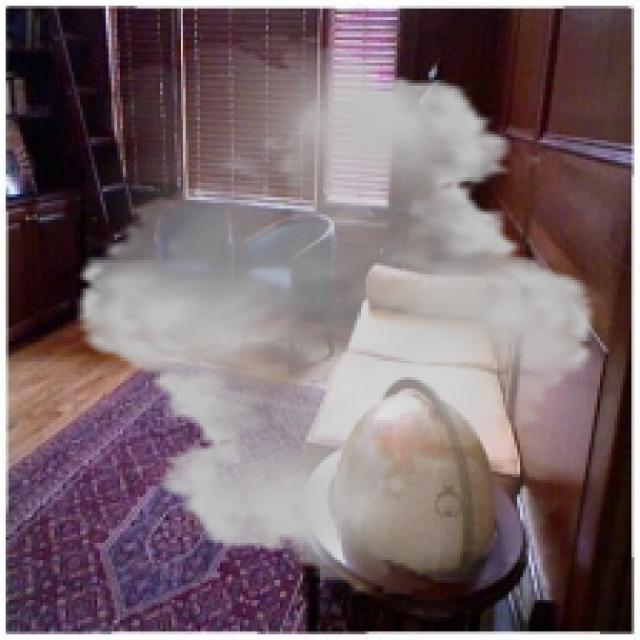Smoke: (54, 34, 617, 594)
